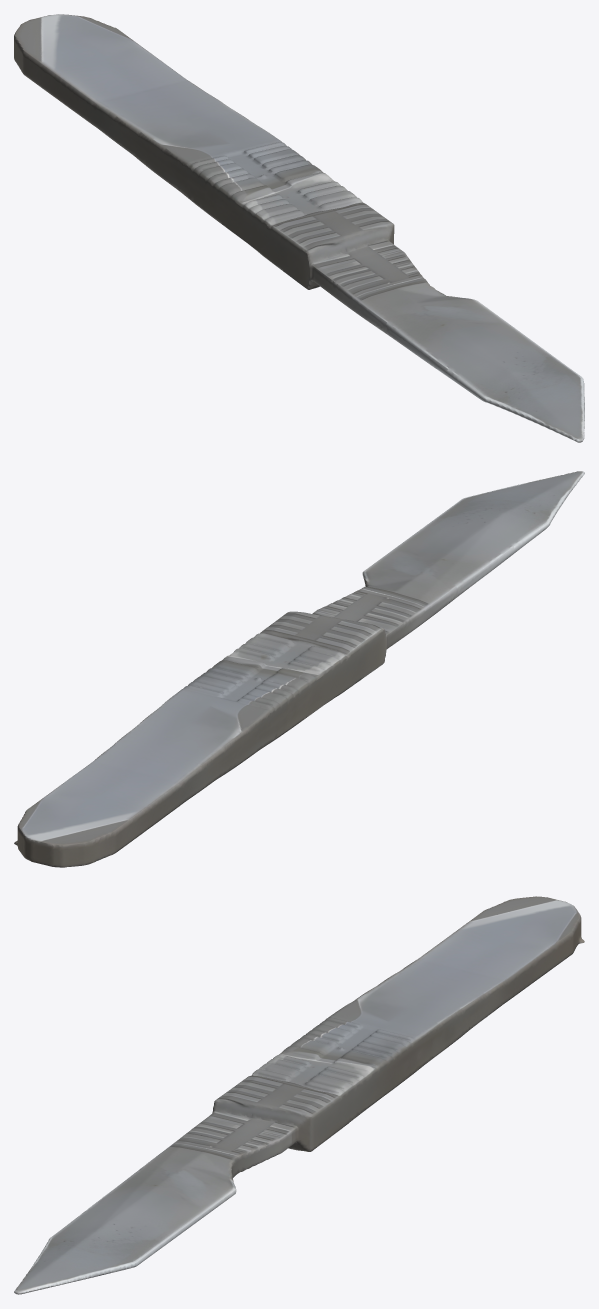
Rendered from Bisturi_da_clara.glb.
3 renders of one model, top to bottom at view 1: azimuth 30°, elevation 25°; view 2: azimuth 150°, elevation 25°; view 3: azimuth 330°, elevation 25°, orthographic. The views are drawn at different scales.
Parts seen in each view (by area): view 1: tripo_node_2d70e6b2-0f74-4149-8dde-23d46eb2a114; view 2: tripo_node_2d70e6b2-0f74-4149-8dde-23d46eb2a114; view 3: tripo_node_2d70e6b2-0f74-4149-8dde-23d46eb2a114.
Part boxes in pixels (x1,y1,x2,y2): tripo_node_2d70e6b2-0f74-4149-8dde-23d46eb2a114: [14, 14, 584, 442]; tripo_node_2d70e6b2-0f74-4149-8dde-23d46eb2a114: [14, 471, 584, 867]; tripo_node_2d70e6b2-0f74-4149-8dde-23d46eb2a114: [14, 896, 584, 1294].
Bounding box in the file's own units: 0.1006 × 0.0411 × 1.
1 material, 1 textured.
